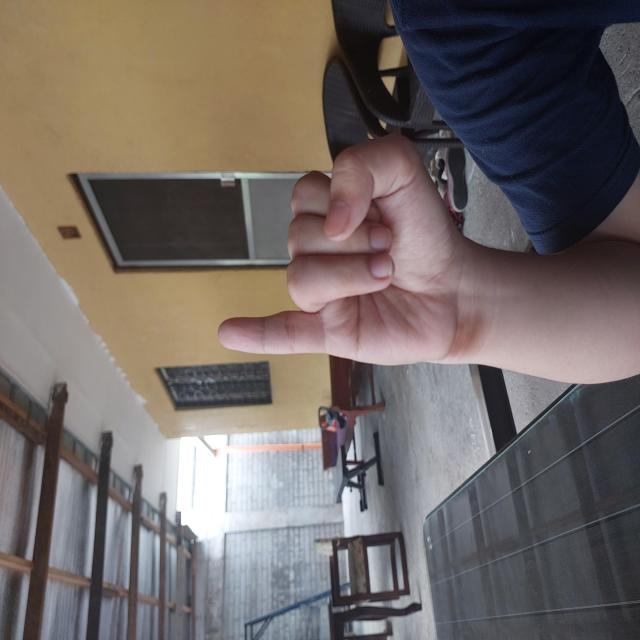I: (271, 215, 509, 466)
